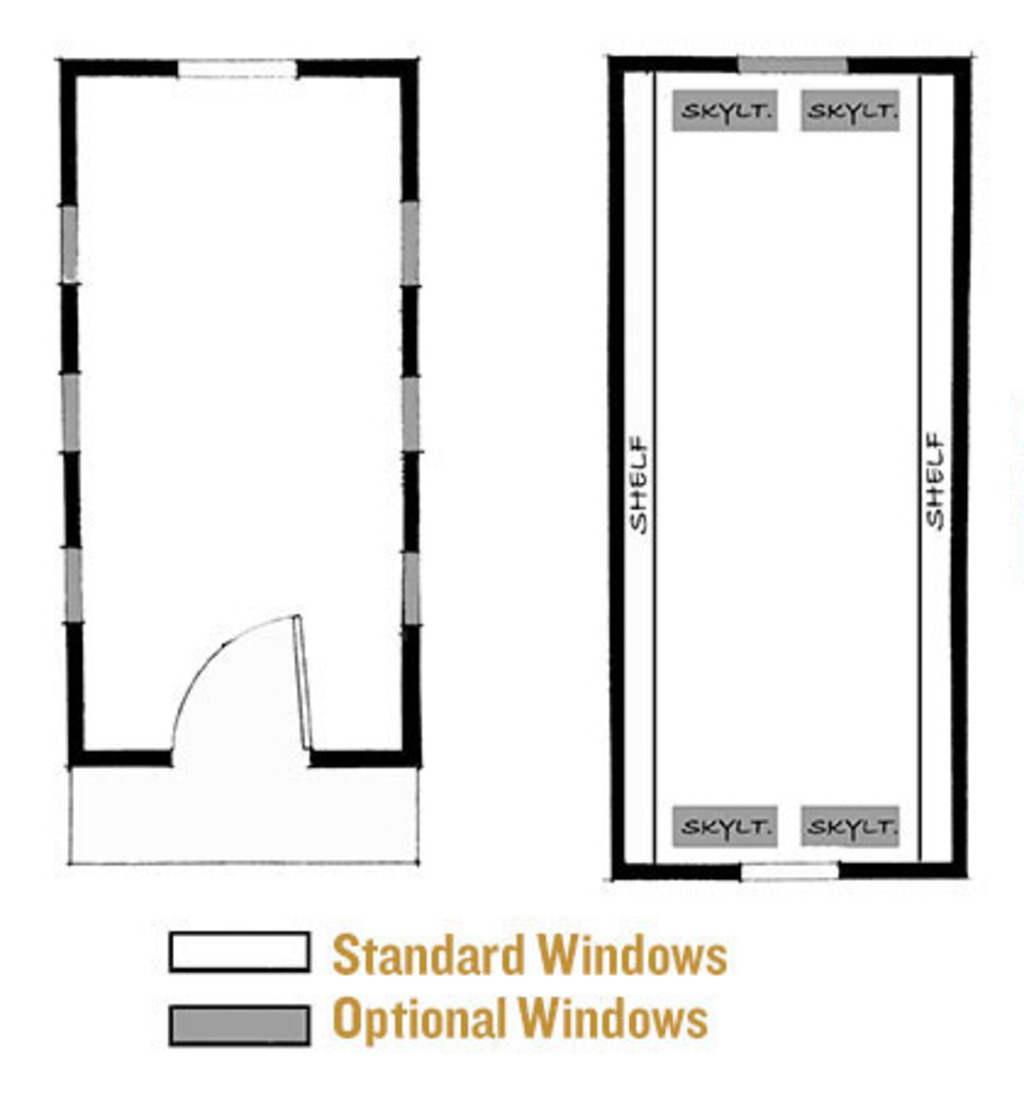door: (160, 612, 317, 764)
windows: (172, 48, 302, 89), (730, 857, 848, 890)
